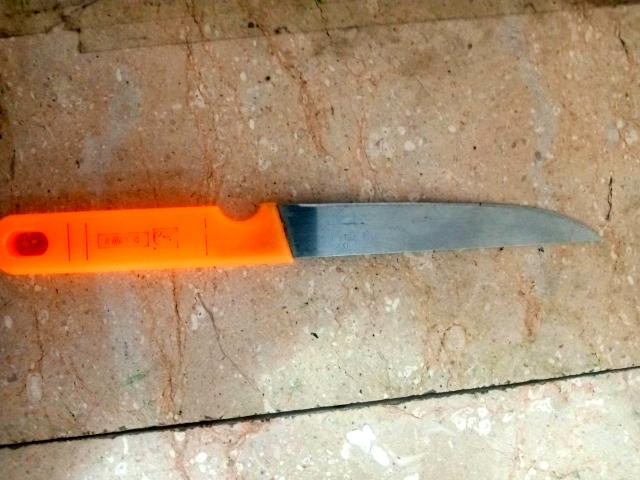Knife: (0, 203, 599, 273)
